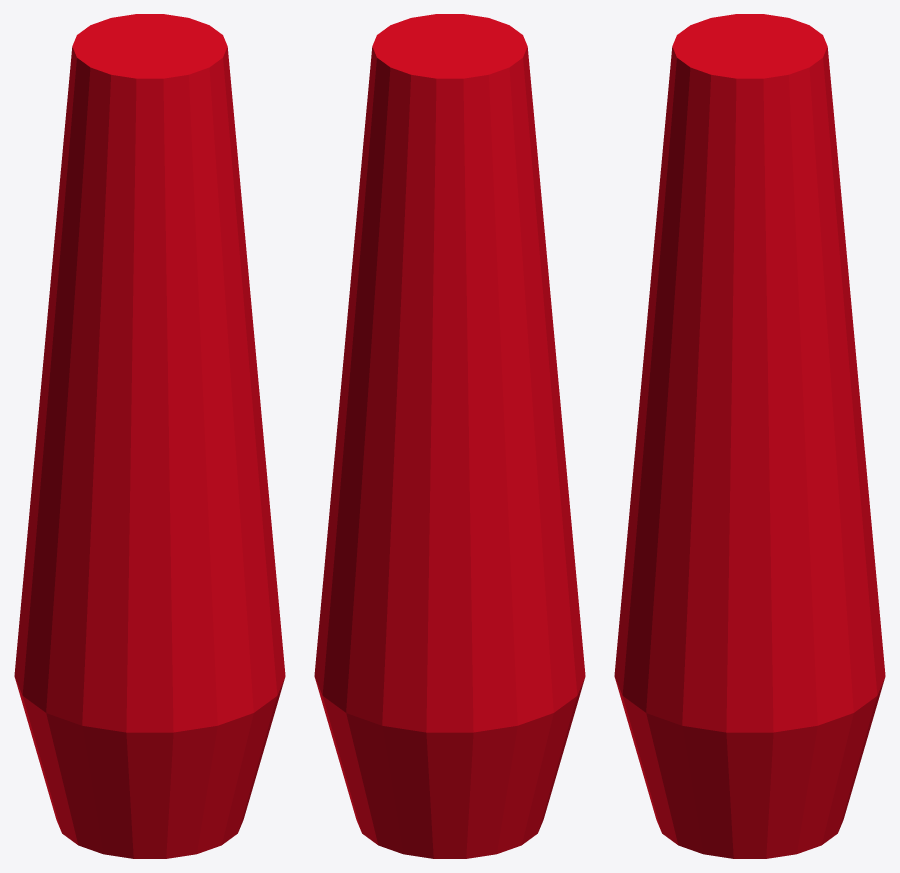
Rendered from PIN_Collider.fbx.
3 renders of one model, left to right at view 1: azimuth 30°, elevation 25°; view 2: azimuth 150°, elevation 25°; view 3: azimuth 270°, elevation 25°, orthographic.
Parts seen in each view (by area): view 1: PinCollider; view 2: PinCollider; view 3: PinCollider.
Boxes of the visible parts, x1,y1,x2,y2 form: PinCollider: [14, 14, 285, 858]; PinCollider: [314, 14, 585, 858]; PinCollider: [614, 14, 885, 858].
Size of the model in its own units: 13.89 by 44.42 by 14.11.
